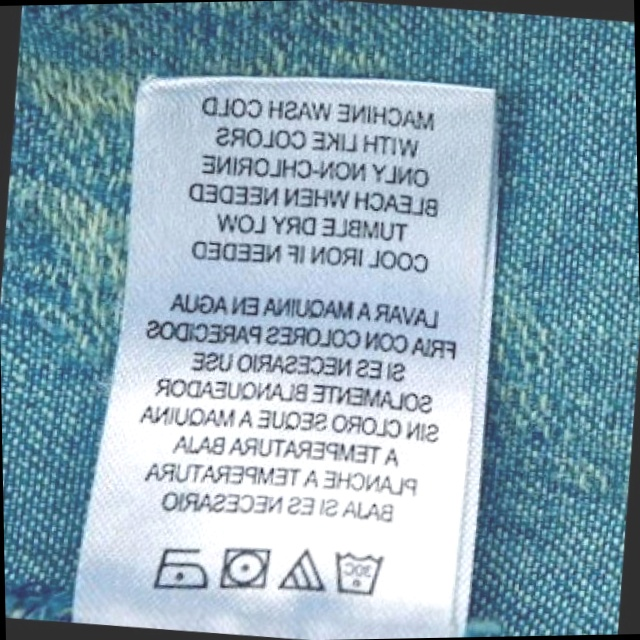30C: (327, 539, 387, 600)
iron_low: (151, 538, 215, 597)
non_chlorine_bleach: (279, 545, 327, 596)
tumble_dry_low: (209, 539, 275, 598)
